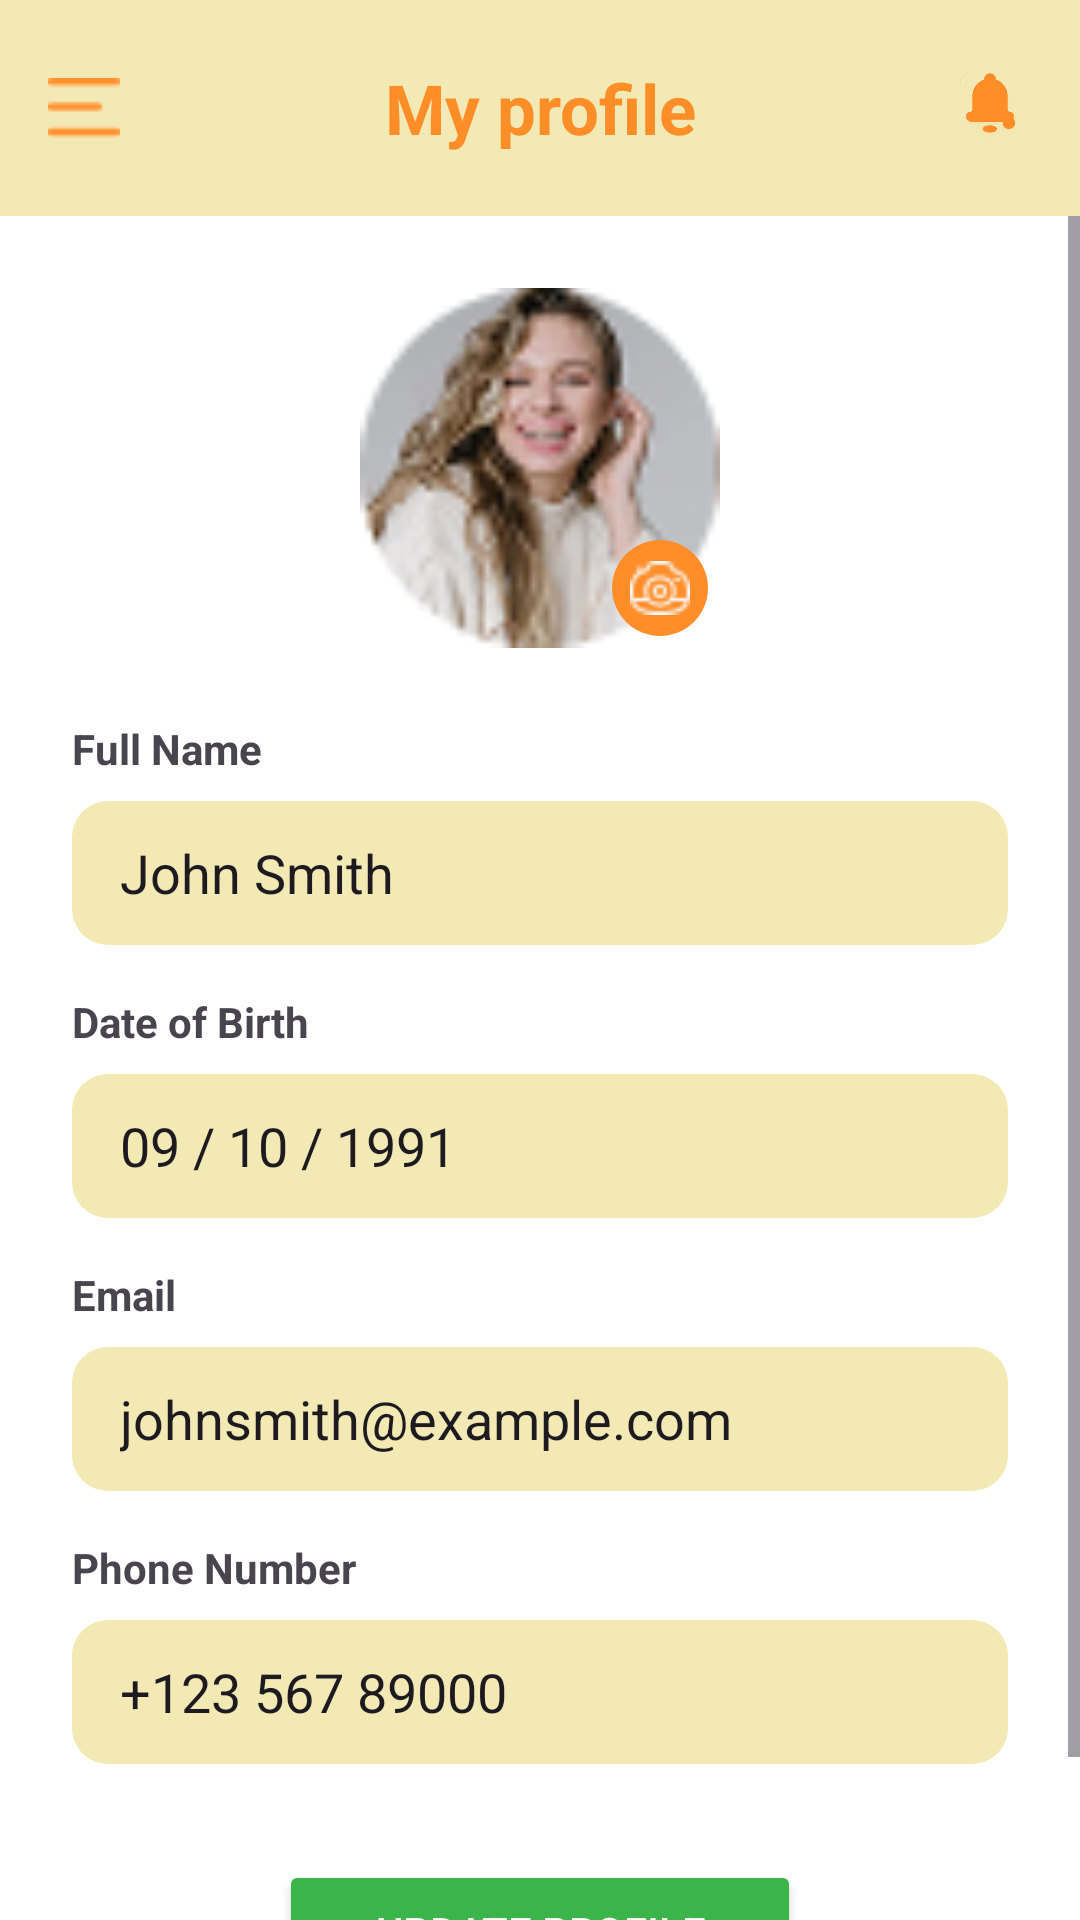

Named icons in this screenshot (1080 × 1920) and their centers, point (x, y):
bar: point (84, 108)
empty notification: point (990, 103)
